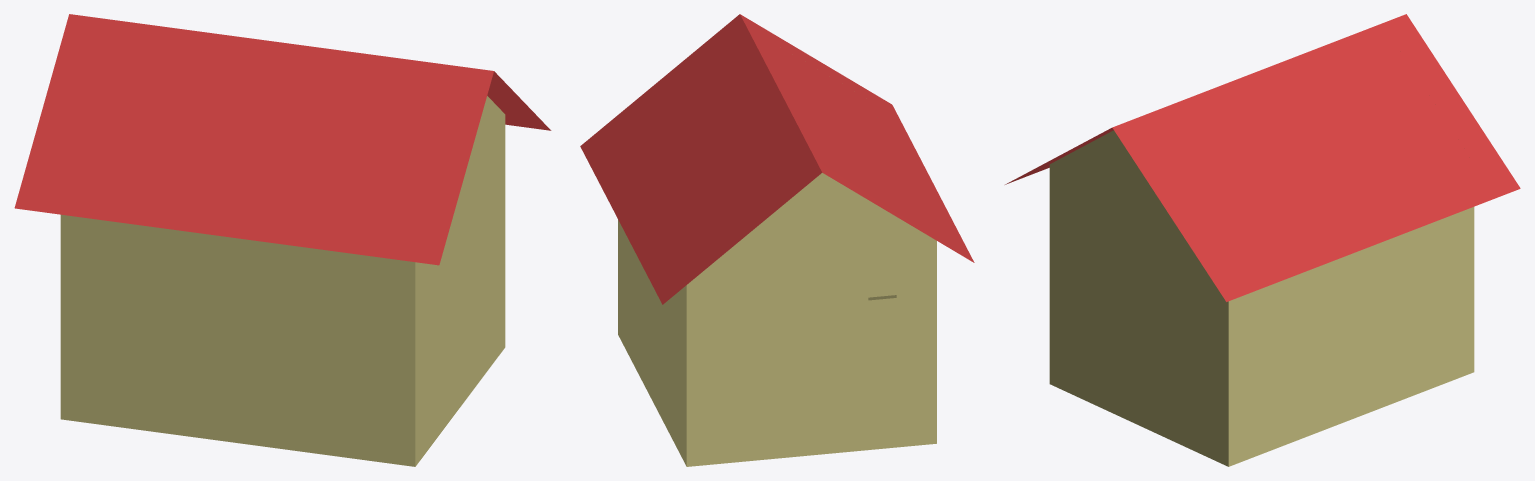
The picture shows the model from 3 angles, left to right: view 1: azimuth 30°, elevation 25°; view 2: azimuth 150°, elevation 25°; view 3: azimuth 270°, elevation 25°; orthographic projection. The views are drawn at different scales.
Size of the model in its own units: 15.63 by 15.77 by 10.29.
